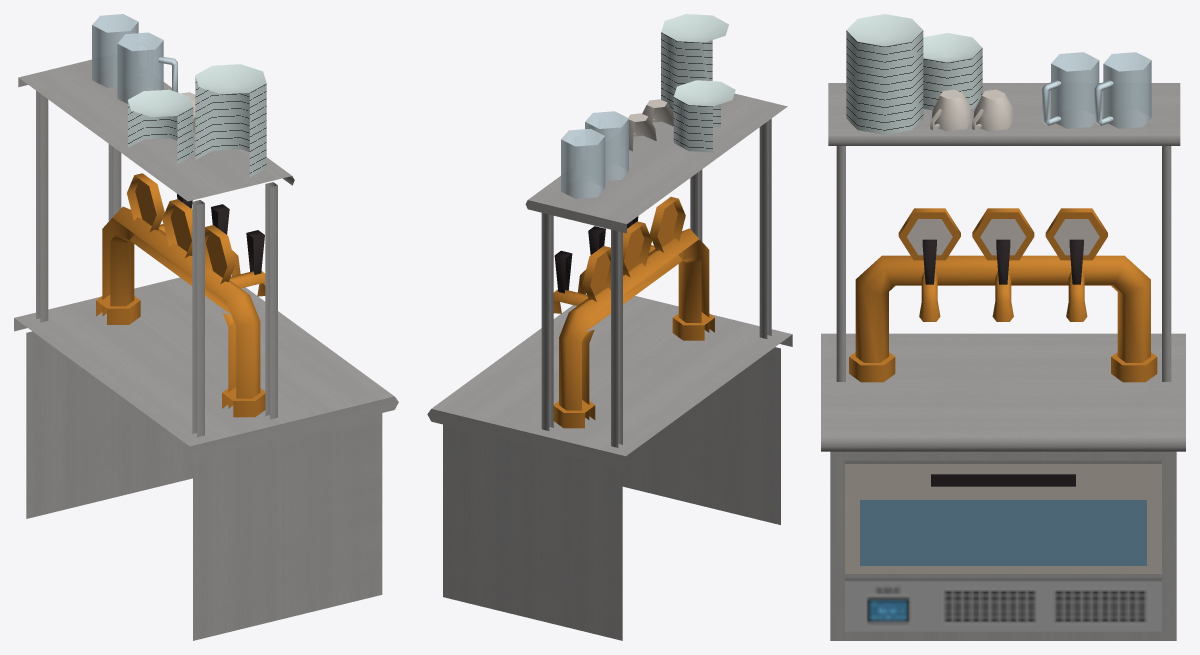
Rendered from interior_B_008.fbx.
3 views of the same model, side by side, from view 1: azimuth 30°, elevation 25°; view 2: azimuth 150°, elevation 25°; view 3: azimuth 270°, elevation 25° (orthographic). The views are drawn at different scales.
Visible parts, largest first — view 1: interior_B_008; view 2: interior_B_008; view 3: interior_B_008.
Boxes of the visible parts, x1,y1,x2,y2 form: interior_B_008: [14, 14, 398, 640]; interior_B_008: [427, 14, 792, 640]; interior_B_008: [821, 14, 1185, 640].
Bounding box in the file's own units: 80.29 × 193 × 117.
